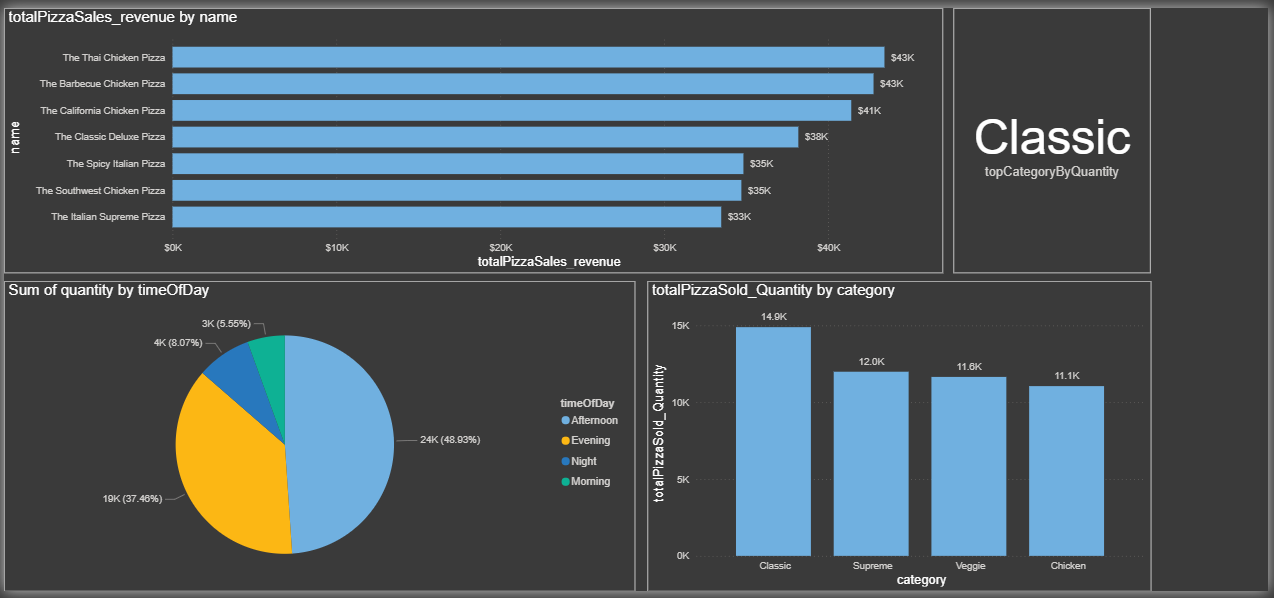

What the dashboard file says about the page in this screenshot:
{"tool":"powerbi","page":{"name":"Page 2","canvas":[1560,720],"ordinal":1},"visuals":[{"type":"barChart","fields":{"Category":["pizza_types.name"],"Y":["order_details.totalPizzaSales_revenue"]},"box":[0,0,1159.6,327.7],"z":0},{"type":"pieChart","fields":{"Category":["orders.timeOfDay"],"Y":["Sum(order_details.quantity)"]},"box":[0,337.2,779.4,383.3],"z":1000},{"type":"columnChart","fields":{"Category":["pizza_types.category"],"Y":["order_details.totalPizzaSold_Quantity"]},"box":[793.7,337.2,621.9,383.3],"z":2000},{"type":"card","fields":{"Values":["pizza_types.topCategoryByQuantity"]},"box":[1172.3,0,243.4,327.7],"z":3000}]}

Visuals, with their boxes in screenshot pixels (x1, y1, x2, y2), scaled from the page's 1560x720 canvas onto the 1274x598 screenshot:
barChart - pizza_types.name x order_details.totalPizzaSales_revenue: [x1=0, y1=0, x2=947, y2=272]
pieChart - orders.timeOfDay x Sum(order_details.quantity): [x1=0, y1=280, x2=637, y2=597]
columnChart - pizza_types.category x order_details.totalPizzaSold_Quantity: [x1=648, y1=280, x2=1156, y2=597]
card - pizza_types.topCategoryByQuantity: [x1=957, y1=0, x2=1156, y2=272]
